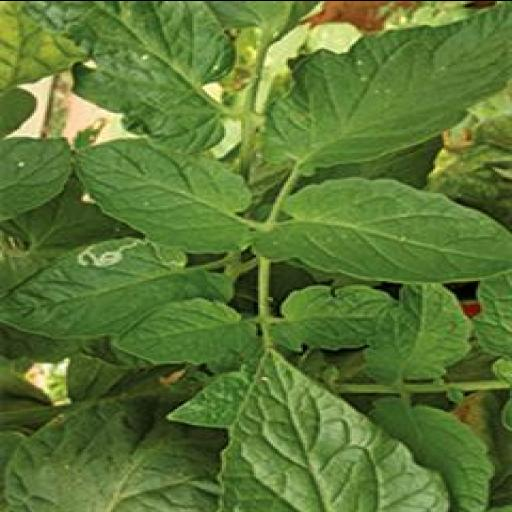disease_tomato: (0, 234, 198, 340)
